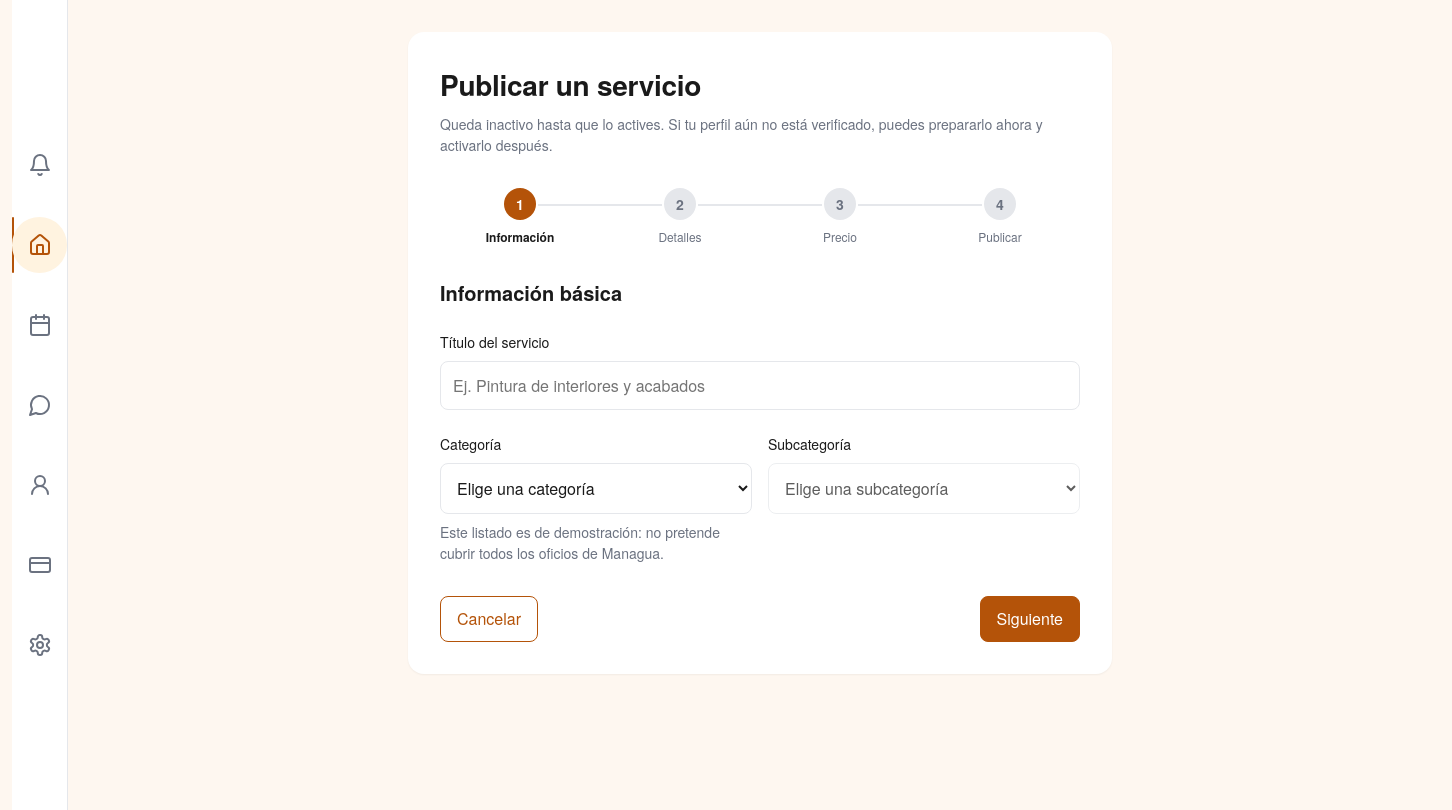
Test case: Asistente de nuevo servicio › vuelve al listado al cancelar desde el primer paso
Click the button "Cancelar" at (489, 619), box [440,596,538,642]
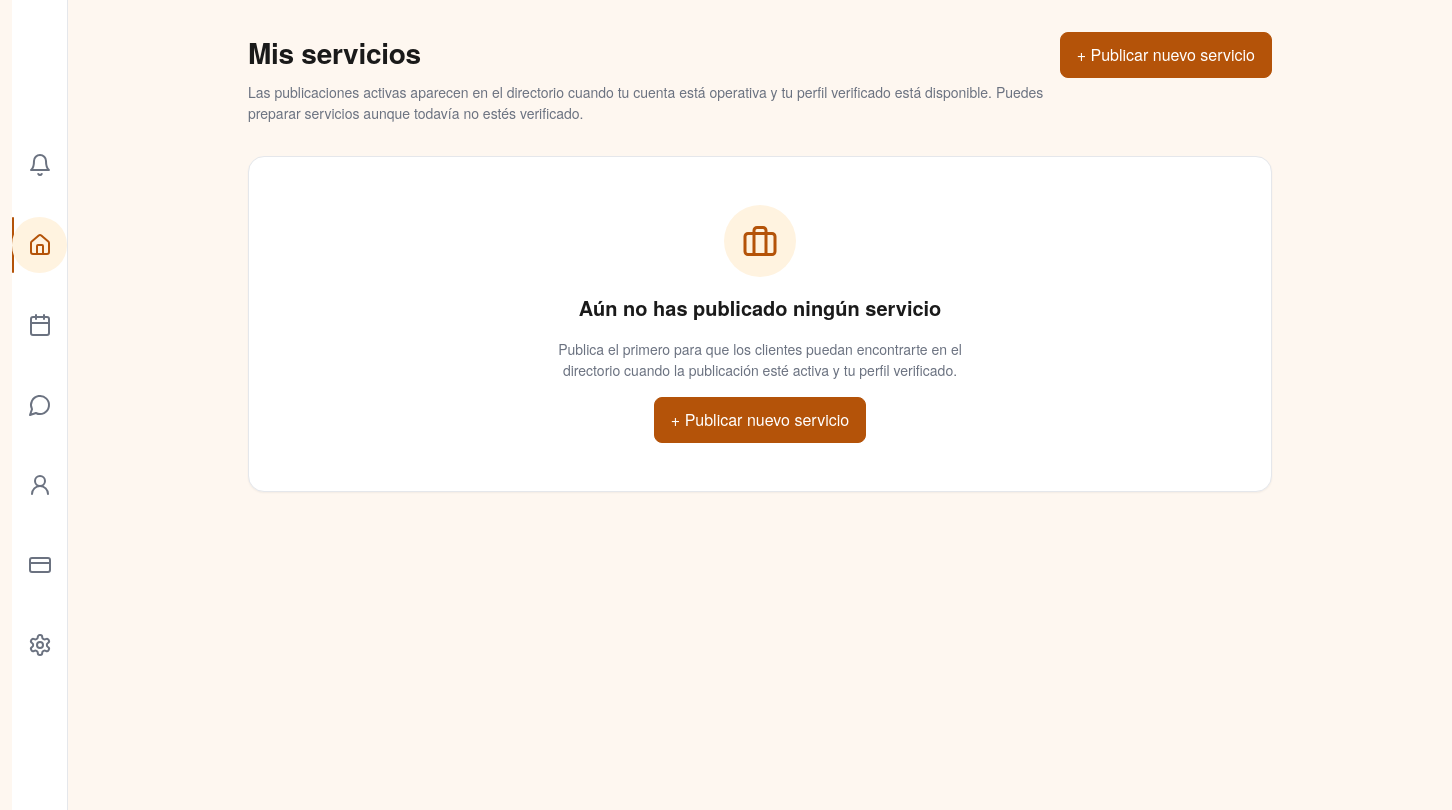
Now the heading "Mis servicios" is shown, box [248,32,421,73]
